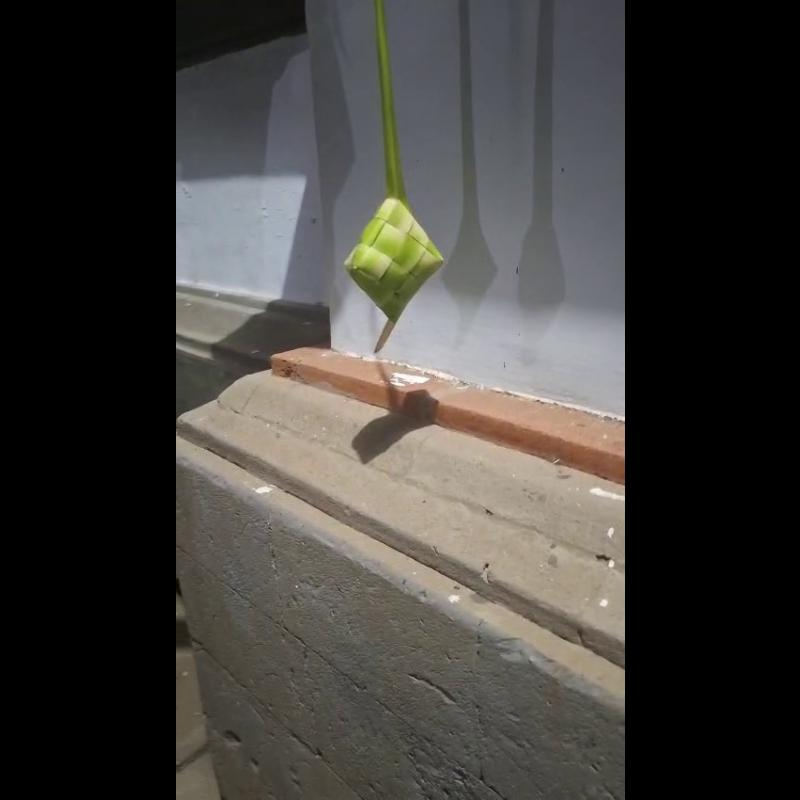Tipat Nasi: (347, 193, 445, 358)
